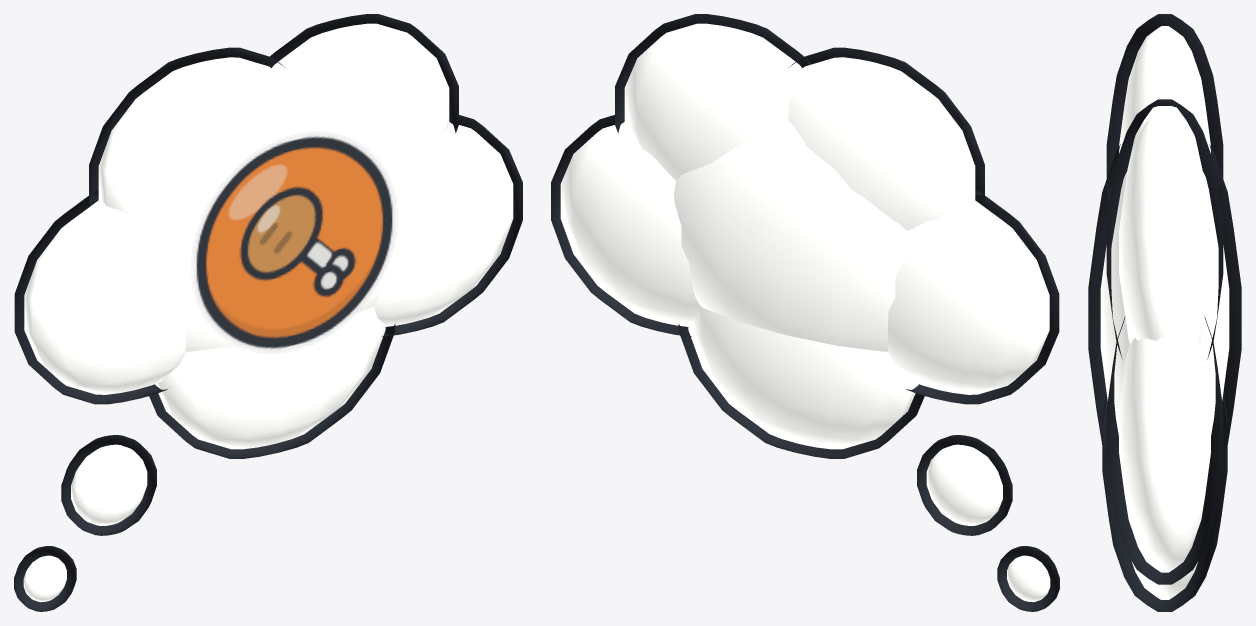
Rendered from balao_pensamento.glb.
The picture shows the model from 3 angles, left to right: view 1: azimuth 30°, elevation 25°; view 2: azimuth 150°, elevation 25°; view 3: azimuth 270°, elevation 25°; orthographic projection. The views are drawn at different scales.
Parts seen in each view (by area): view 1: icone, nuvem_1, nuvem_3, nuvem_5, nuvem_4, nuvem_2, nuvem_0, rastro_0, nuvem_1_contorno, nuvem_5_contorno, nuvem_2_contorno, rastro_0_contorno (+4 smaller); view 2: nuvem_0, nuvem_1, nuvem_3, nuvem_5, nuvem_4, nuvem_2, rastro_0, nuvem_1_contorno, nuvem_5_contorno, nuvem_2_contorno, rastro_0_contorno, nuvem_3_contorno (+3 smaller); view 3: nuvem_2, nuvem_4, nuvem_0, nuvem_0_contorno, nuvem_3, nuvem_2_contorno, nuvem_3_contorno, nuvem_4_contorno, nuvem_5_contorno, nuvem_5.
Boxes of the visible parts, box(x1,y1,x2,y2) form: icone: box(192, 132, 397, 353); nuvem_1: box(24, 200, 186, 394); nuvem_3: box(98, 57, 285, 230); nuvem_5: box(155, 306, 385, 449); nuvem_4: box(271, 23, 449, 180); nuvem_2: box(373, 122, 513, 326); nuvem_0: box(166, 120, 400, 351); rastro_0: box(71, 444, 147, 525); nuvem_1_contorno: box(14, 190, 167, 404); nuvem_5_contorno: box(149, 324, 395, 458); nuvem_2_contorno: box(382, 115, 522, 336); rastro_0_contorno: box(61, 435, 156, 535); nuvem_0: box(673, 120, 907, 351); nuvem_1: box(887, 200, 1049, 394); nuvem_3: box(788, 57, 975, 230); nuvem_5: box(688, 306, 918, 449); nuvem_4: box(624, 23, 802, 180); nuvem_2: box(560, 122, 700, 326); rastro_0: box(926, 444, 1002, 525); nuvem_1_contorno: box(906, 190, 1059, 404); nuvem_5_contorno: box(678, 324, 924, 458); nuvem_2_contorno: box(551, 115, 691, 336); rastro_0_contorno: box(917, 435, 1012, 535); nuvem_3_contorno: box(789, 47, 984, 205); nuvem_2: box(1119, 338, 1210, 572); nuvem_4: box(1119, 111, 1210, 343); nuvem_0: box(1100, 171, 1229, 435); nuvem_0_contorno: box(1088, 144, 1241, 458); nuvem_3: box(1119, 26, 1210, 170); nuvem_2_contorno: box(1106, 316, 1223, 584); nuvem_3_contorno: box(1106, 14, 1223, 208); nuvem_4_contorno: box(1106, 99, 1223, 359); nuvem_5_contorno: box(1102, 391, 1227, 611); nuvem_5: box(1132, 562, 1197, 599).
Size of the model in its own units: 0.00047 by 0.000466 by 9.87e-05.
3 materials, 1 textured.
